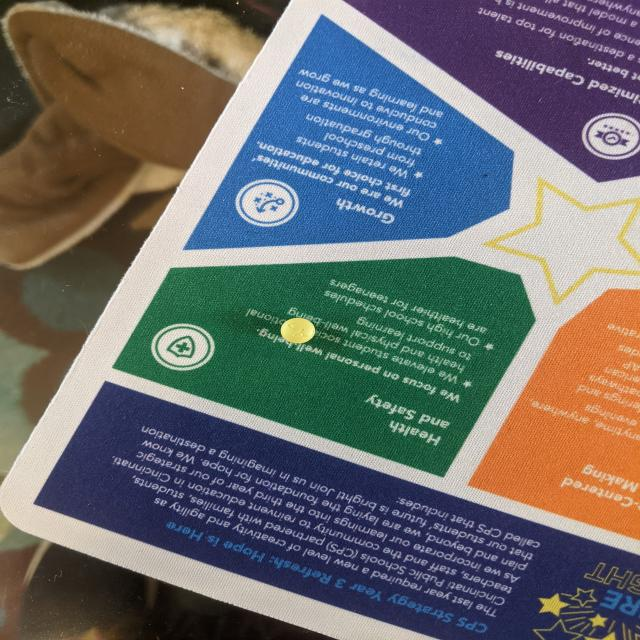non-organic waste: (280, 317, 316, 344)
